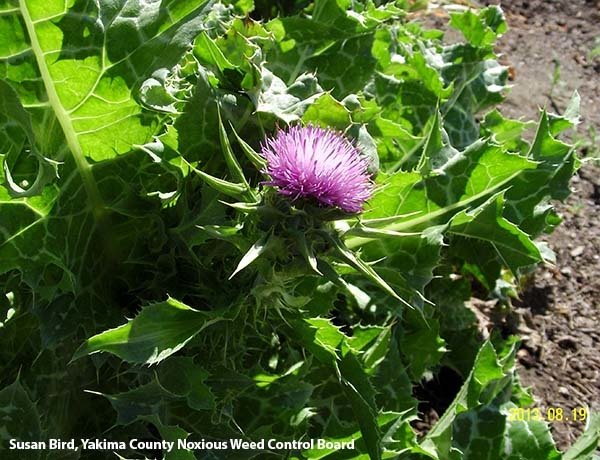thistle: (210, 116, 416, 297)
